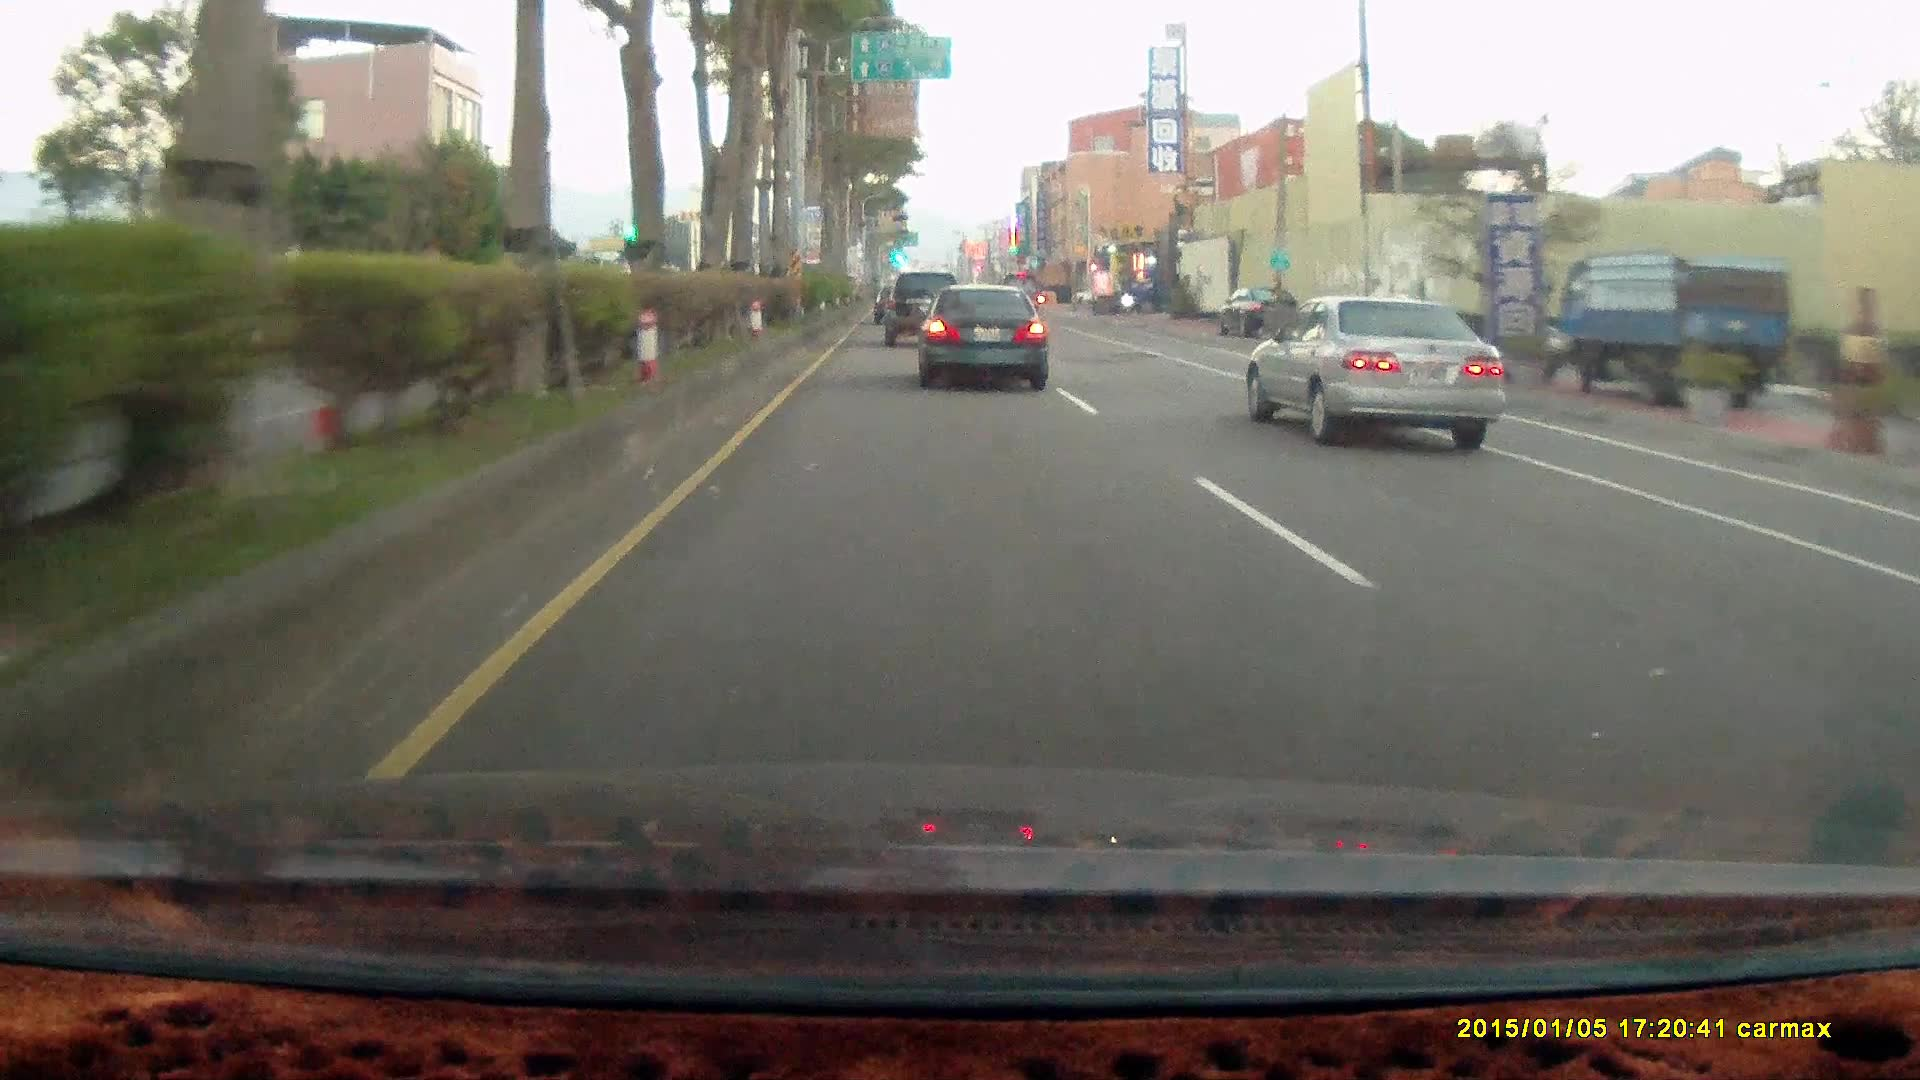vehicle: (1548, 249, 1801, 415), (1255, 298, 1520, 456), (1244, 294, 1506, 452), (1553, 251, 1791, 411), (914, 284, 1048, 389), (916, 287, 1050, 393), (884, 269, 963, 348), (1217, 291, 1303, 342), (1120, 266, 1193, 314)
